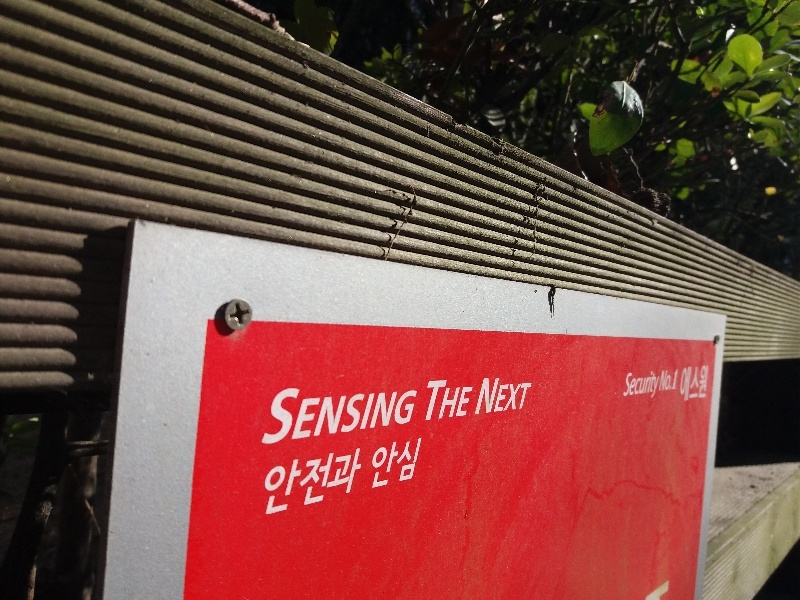text: (273, 447, 288, 519), (289, 447, 304, 519), (305, 447, 320, 519), (321, 447, 336, 519), (337, 447, 352, 519), (289, 387, 304, 450), (305, 387, 320, 450), (321, 387, 336, 450), (337, 387, 352, 450), (353, 387, 368, 450), (369, 387, 384, 450), (385, 387, 400, 450), (401, 387, 416, 450), (353, 447, 366, 519), (385, 436, 400, 492), (401, 436, 416, 492), (275, 387, 288, 450), (433, 378, 448, 424), (449, 378, 464, 424), (372, 436, 384, 492), (689, 364, 704, 405), (497, 378, 512, 418), (513, 378, 528, 418), (482, 378, 496, 418), (465, 378, 476, 424), (417, 436, 426, 492), (625, 370, 640, 401), (641, 370, 656, 401), (266, 447, 272, 519), (529, 378, 537, 418), (661, 368, 672, 394), (682, 364, 688, 405), (427, 378, 432, 424), (673, 368, 681, 394), (705, 364, 710, 405), (657, 370, 663, 401), (417, 387, 419, 450)
